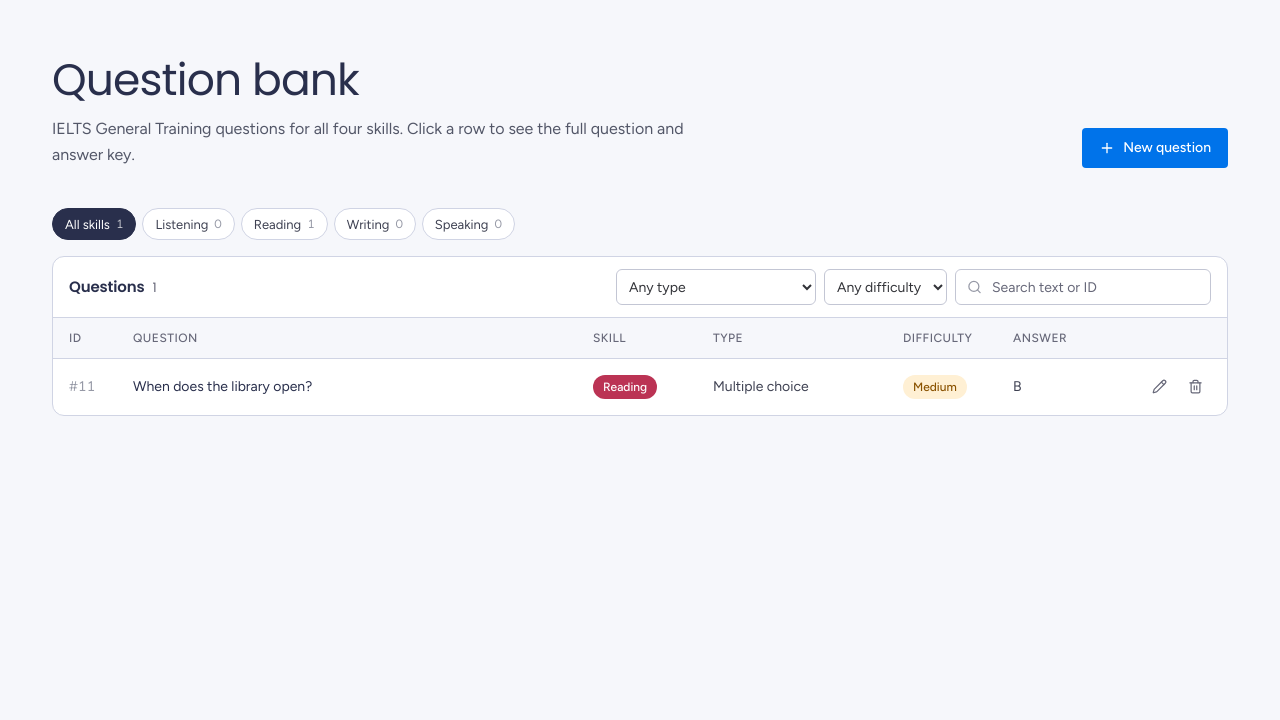
Test: QuestionAdminContainer › mengganti field form saat tipe soal diubah
The image size is (1280, 720).
Check: the text "When does the library open?" is shown, box [133, 378, 312, 395]
Step 1. Click the button "New question" → (1155,148), box [1082, 128, 1228, 168]
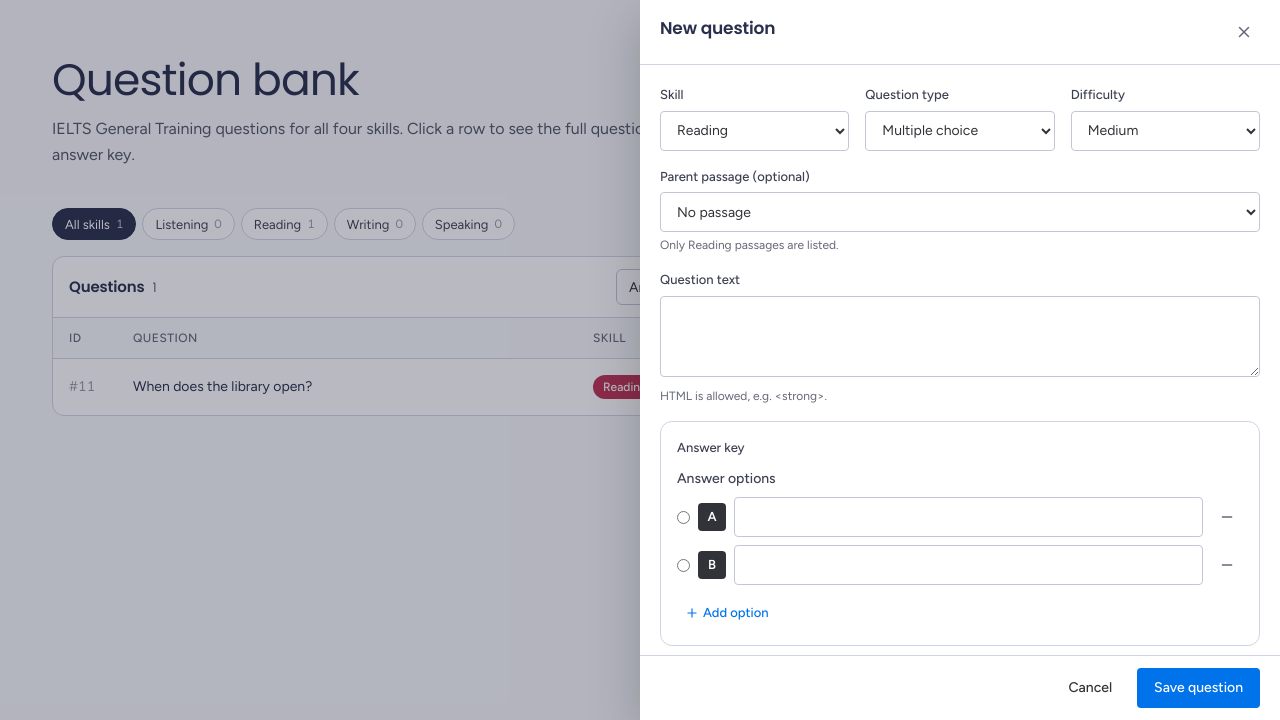
Check: the field named "Option A text" is shown, box [734, 497, 1203, 537]
Step 2. Select "Short answer" in the dropdown labelled "Question type" → (960,130), box [865, 110, 1055, 150]
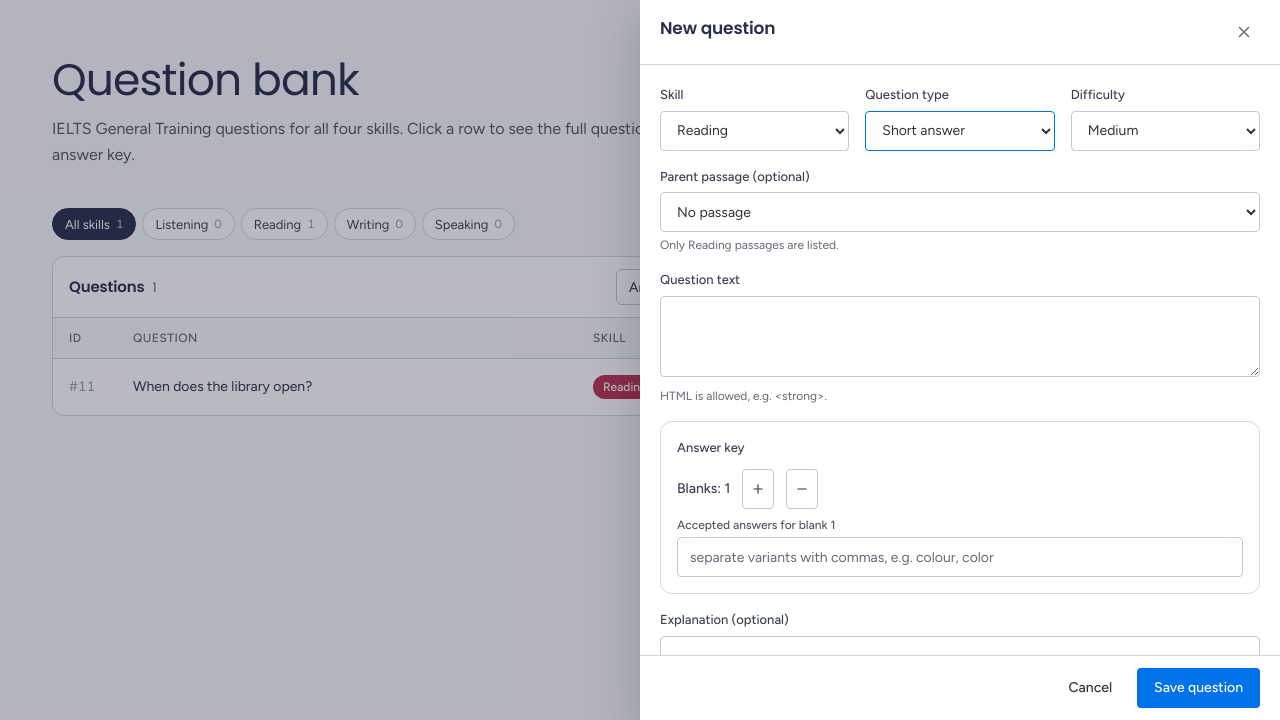
Check: the field labelled "Accepted answers for blank 1" is shown, box [677, 537, 1243, 577]
